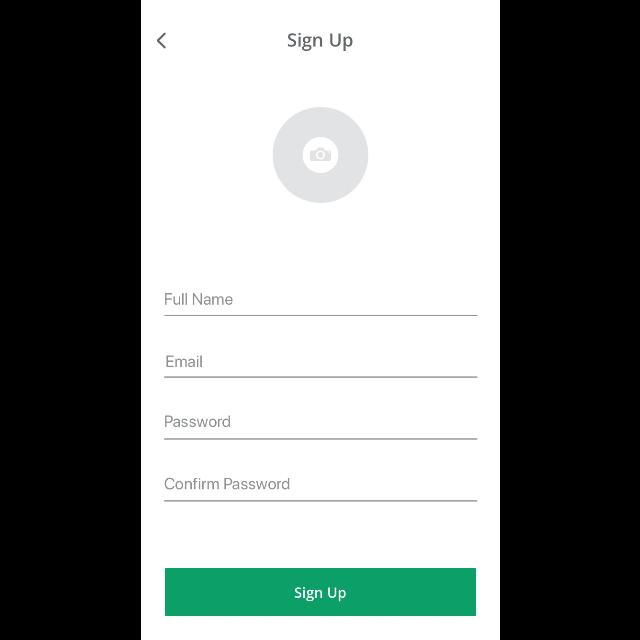icon: (156, 33, 166, 49)
image: (272, 107, 368, 203)
input: (163, 416, 477, 440), (163, 478, 477, 502), (164, 294, 478, 316), (164, 356, 478, 378)
text: (288, 32, 352, 52)
textbutton: (164, 568, 476, 616)
